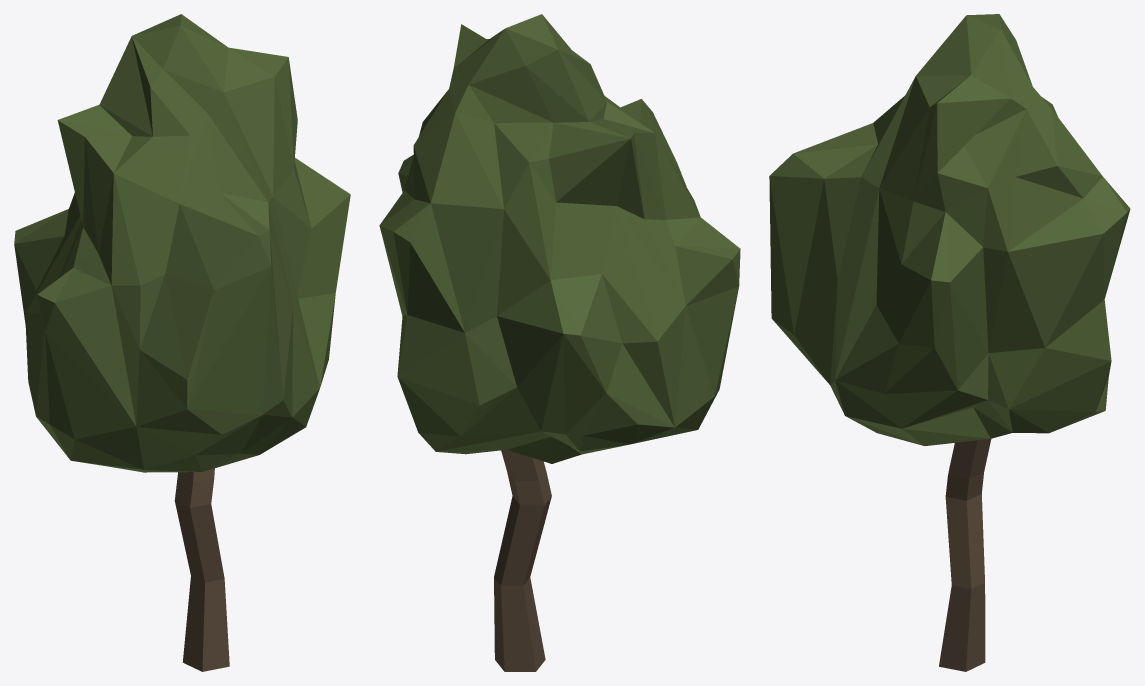
File: tree_036.fbx
3 views of the same model, side by side, from view 1: azimuth 30°, elevation 25°; view 2: azimuth 150°, elevation 25°; view 3: azimuth 270°, elevation 25° (orthographic). The views are drawn at different scales.
Parts seen in each view (by area): view 1: tree_036; view 2: tree_036; view 3: tree_036.
Part boxes in pixels (box(x1,y1,x2,y2)): tree_036: box(14, 14, 350, 671); tree_036: box(379, 14, 740, 671); tree_036: box(769, 14, 1130, 671).
Size of the model in its own units: 0.4433 by 0.8553 by 0.4411.
Materials: 1 (1 with a texture image).
